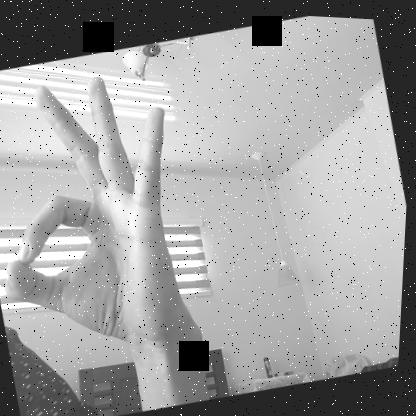F: (0, 54, 219, 368)
